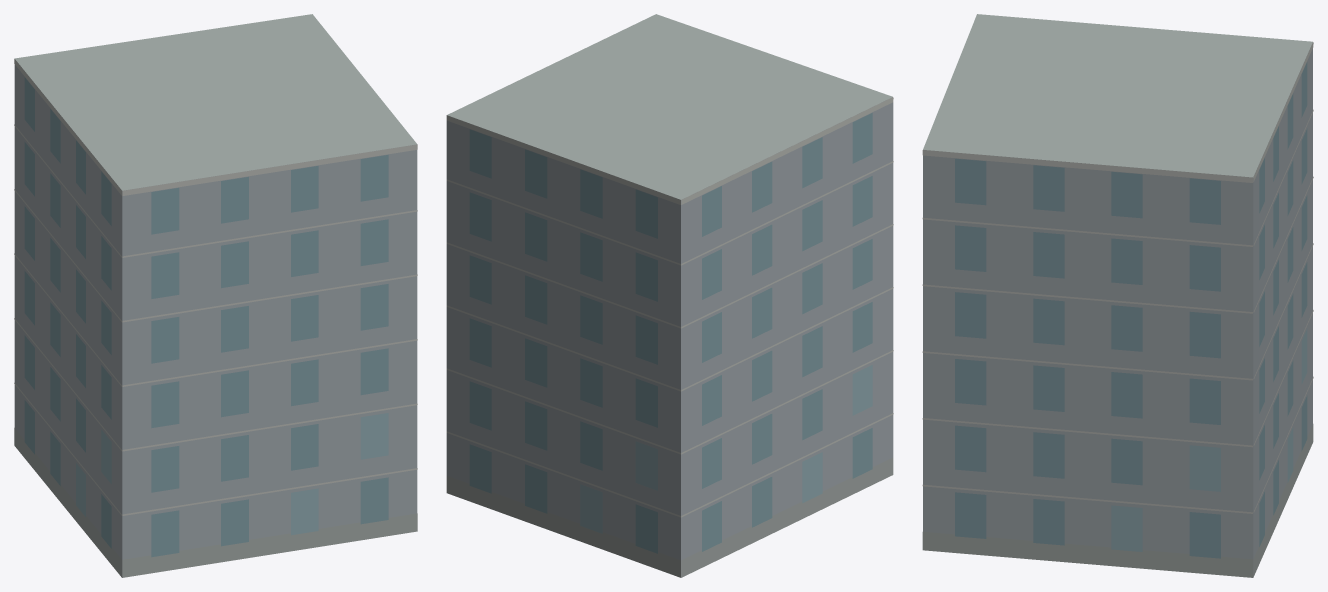
File: survey-upis-32789487.glb
The picture shows the model from 3 angles, left to right: view 1: azimuth 30°, elevation 25°; view 2: azimuth 150°, elevation 25°; view 3: azimuth 270°, elevation 25°; orthographic projection. The views are drawn at different scales.
Visible parts, largest first — view 1: survey-upis-32789487.tmp; view 2: survey-upis-32789487.tmp; view 3: survey-upis-32789487.tmp.
Boxes of the visible parts, x1,y1,x2,y2 form: survey-upis-32789487.tmp: (14, 14, 417, 577); survey-upis-32789487.tmp: (446, 14, 893, 577); survey-upis-32789487.tmp: (922, 14, 1313, 577).
Size of the model in its own units: 15.17 by 17.3 by 15.31.
